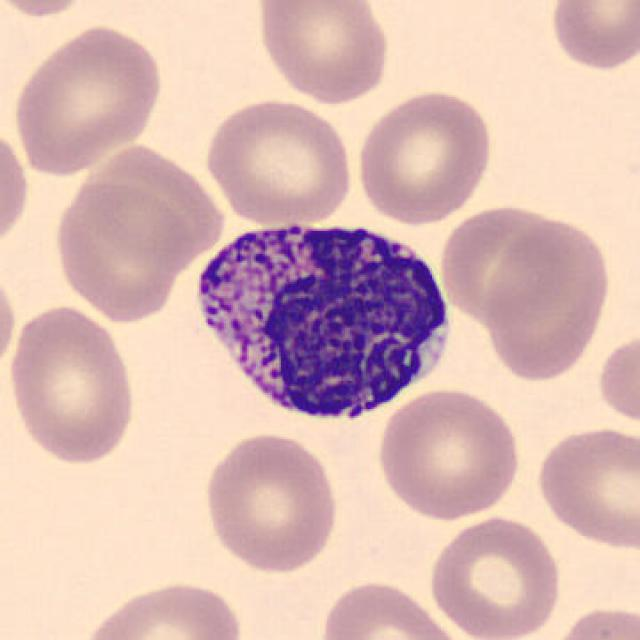Basophil: (183, 204, 461, 432)
RBC: (9, 20, 167, 176), (4, 300, 140, 469), (480, 215, 615, 384), (50, 174, 192, 324), (199, 428, 341, 576), (374, 384, 524, 524), (201, 95, 355, 228), (352, 84, 496, 226), (425, 513, 565, 640), (436, 199, 572, 326), (250, 0, 394, 106), (532, 423, 638, 552), (76, 576, 248, 640), (314, 576, 467, 640), (546, 0, 638, 74), (594, 326, 638, 430), (0, 121, 32, 258), (548, 601, 638, 640), (0, 259, 20, 386), (0, 0, 101, 19)
